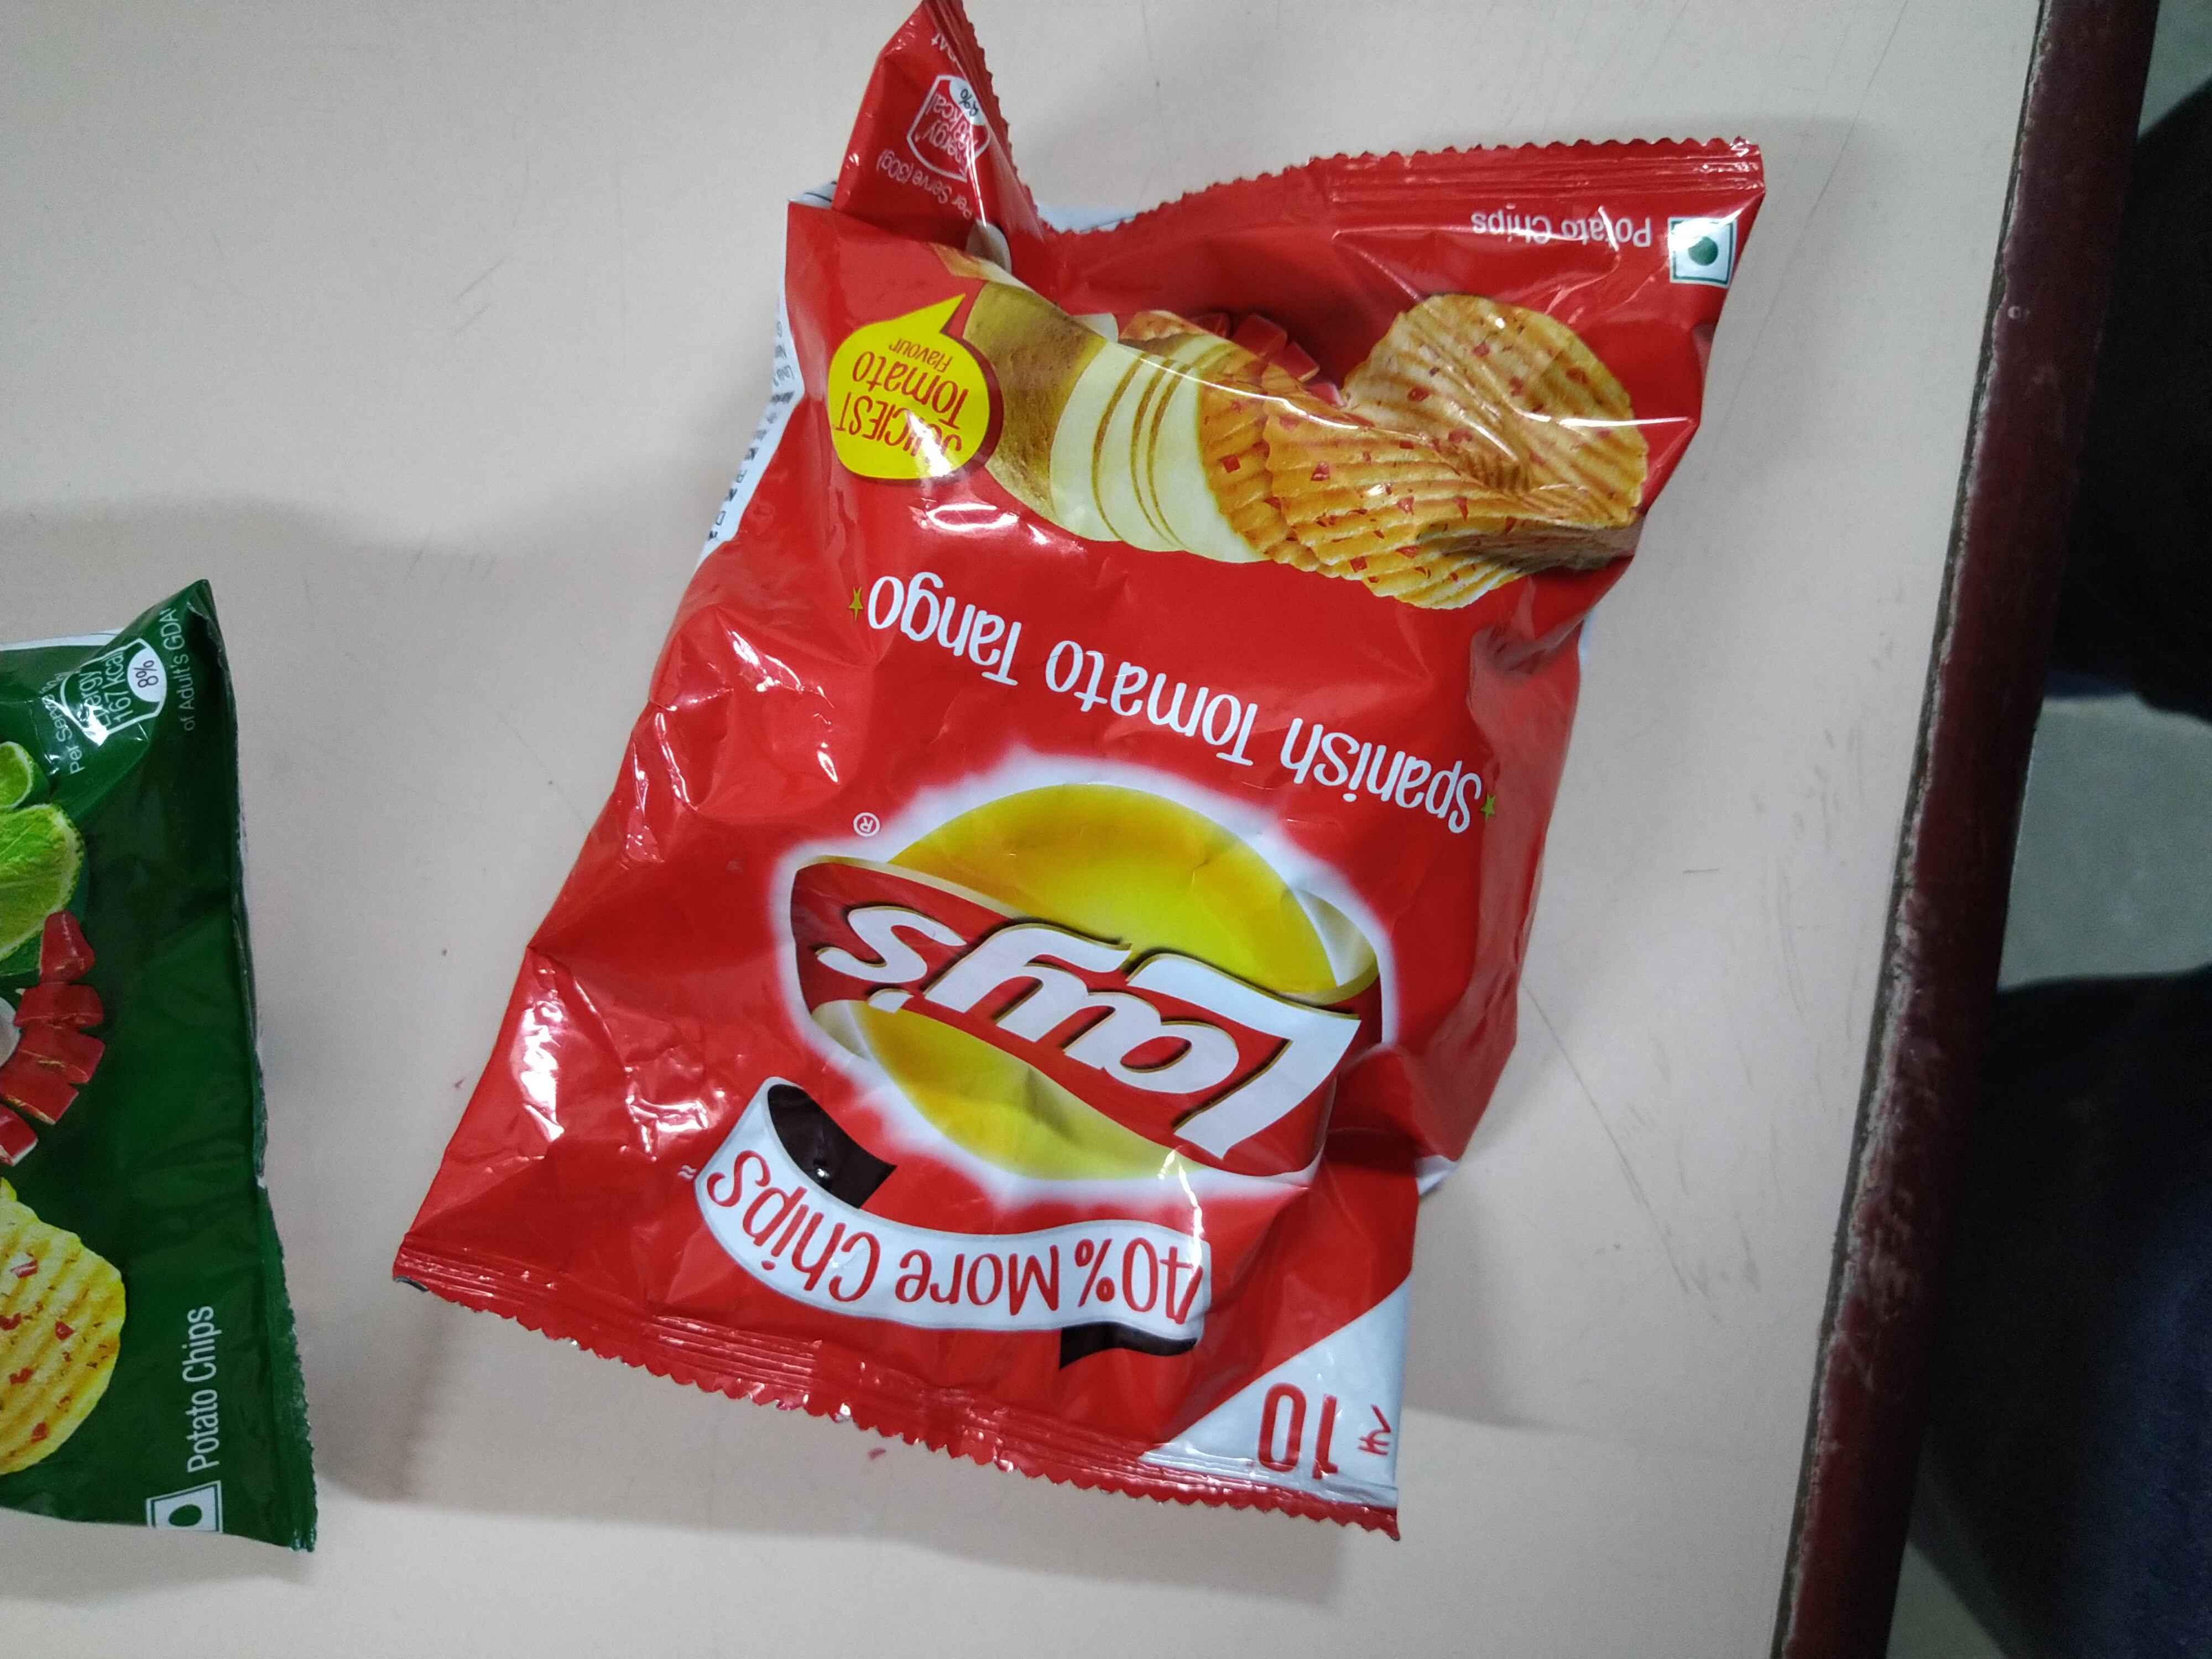Lays: (782, 737, 1400, 1225)
